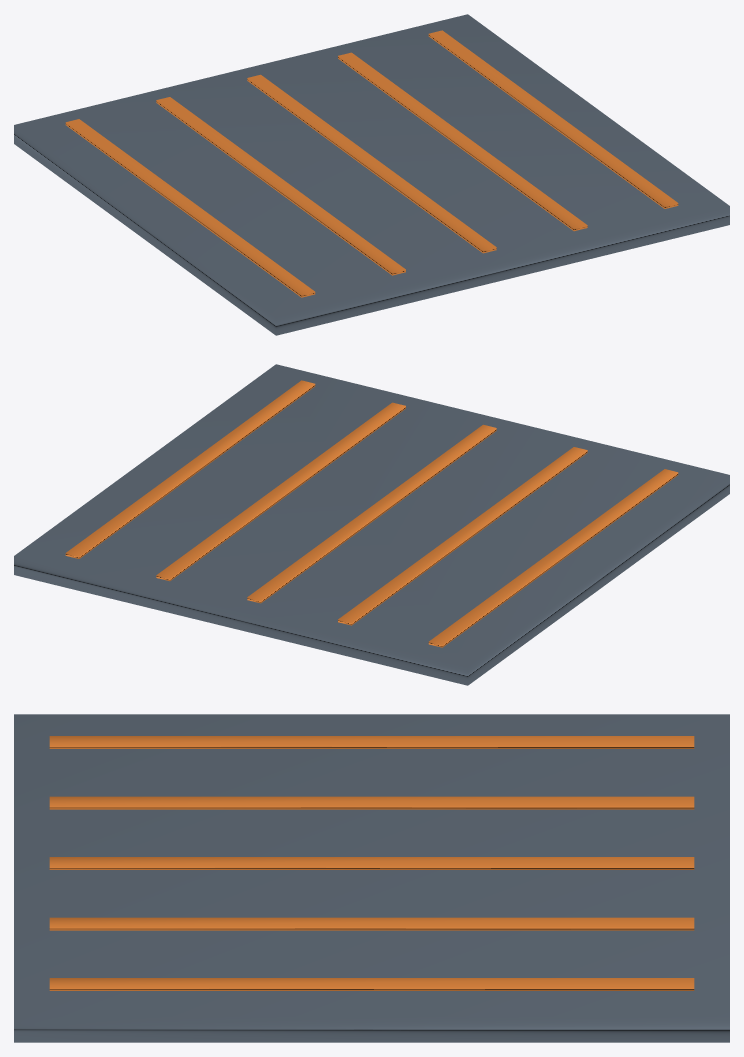
Rendered from hazard_tile.glb.
The picture shows the model from 3 angles, top to bottom: view 1: azimuth 30°, elevation 25°; view 2: azimuth 150°, elevation 25°; view 3: azimuth 270°, elevation 25°; orthographic projection. The views are drawn at different scales.
Visible parts, largest first — view 1: Hardware; view 2: Hardware; view 3: Hardware.
Boxes of the visible parts, x1,y1,x2,y2 form: Hardware: [14, 14, 729, 335]; Hardware: [14, 364, 729, 685]; Hardware: [14, 714, 729, 1042].
Size of the model in its own units: 4 by 0.184 by 4.
